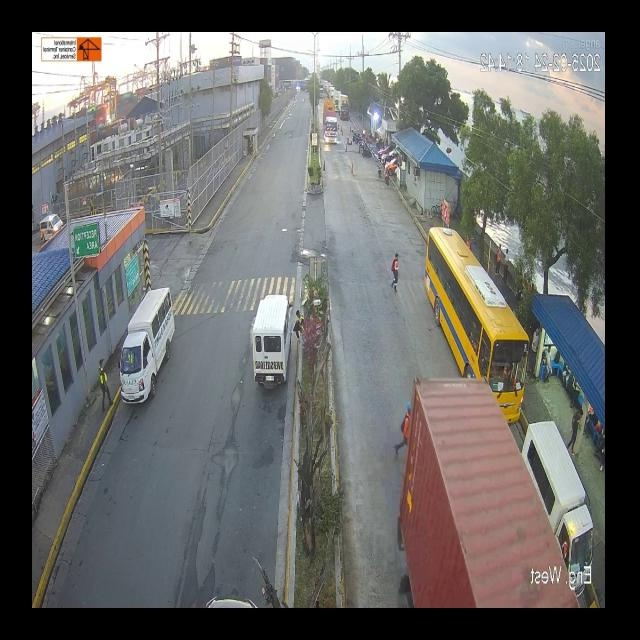bus: (112, 224, 418, 424)
car: (524, 421, 590, 583), (114, 282, 179, 412), (252, 292, 291, 402)
truck: (68, 382, 388, 612), (322, 101, 338, 143)
